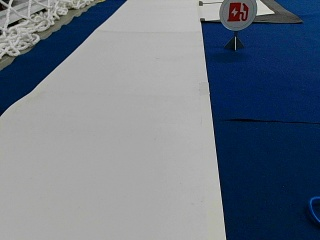battery: (218, 0, 257, 31)
